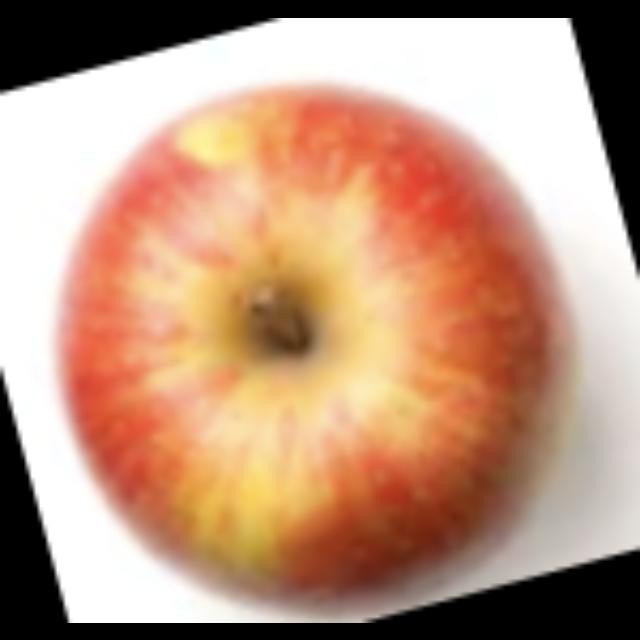Apel Segar: (41, 70, 583, 612)
